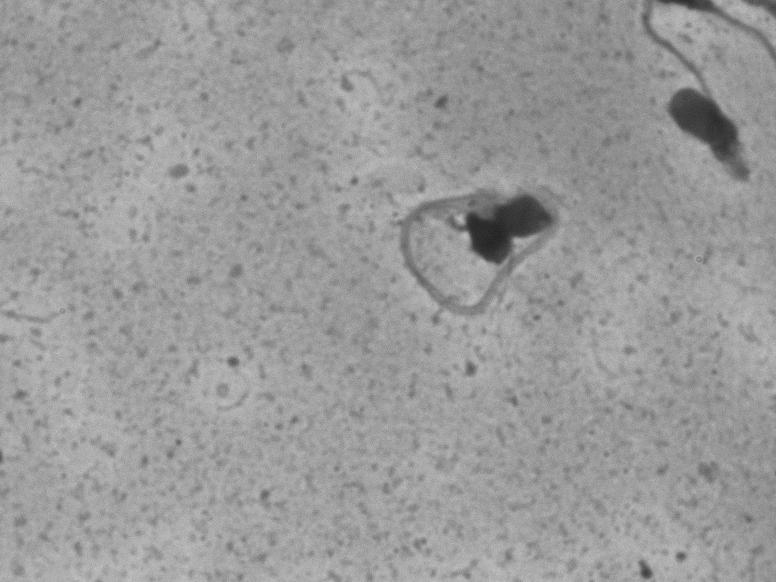Abnormal: (343, 135, 569, 359)
